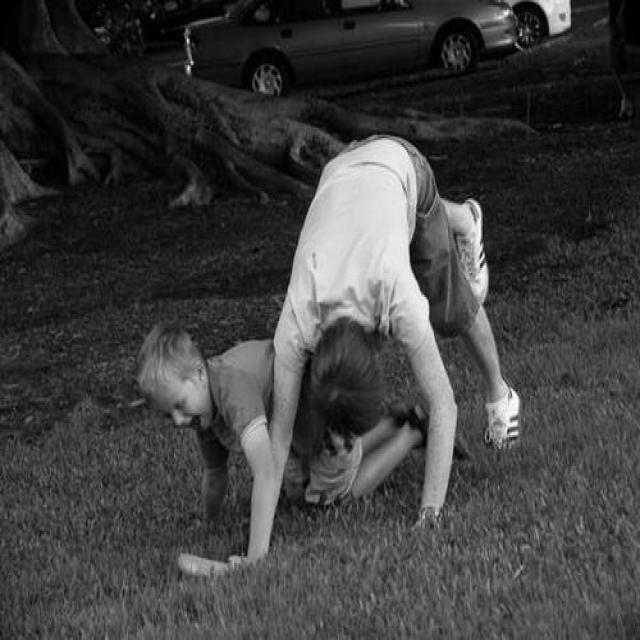vehicle: (184, 2, 518, 98), (505, 2, 573, 46)
